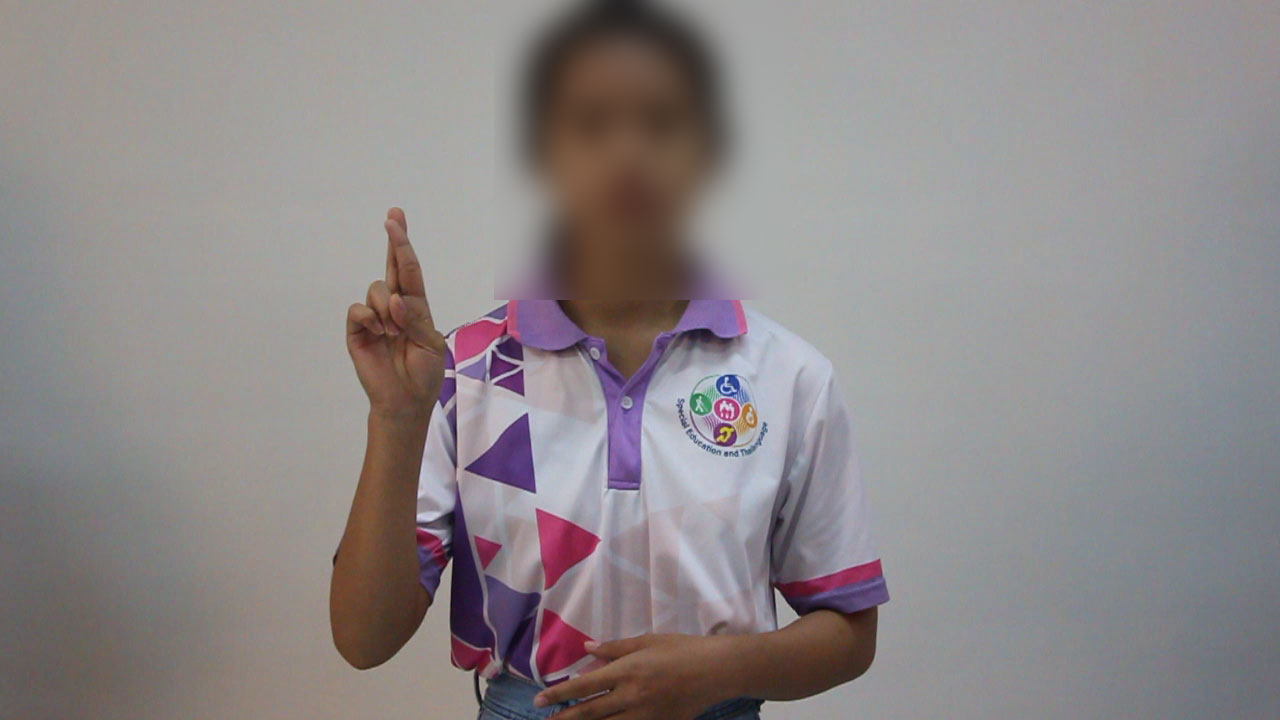rao: (331, 202, 469, 435)
